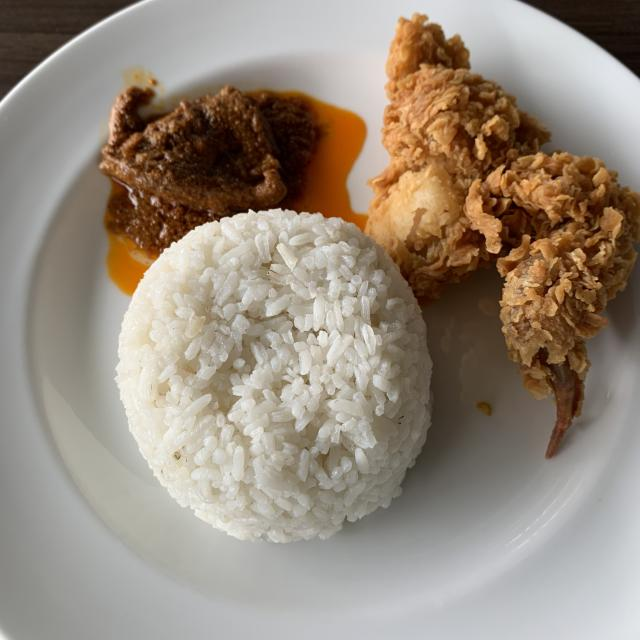Wet Waste: (364, 7, 640, 456), (120, 210, 426, 555), (98, 79, 326, 257)
